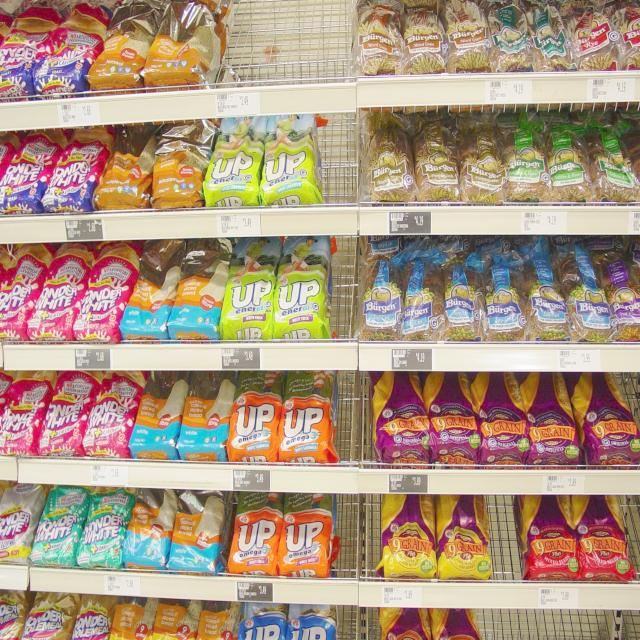empty_space: (234, 3, 339, 79), (496, 615, 612, 640), (325, 123, 359, 193), (493, 498, 519, 582), (346, 503, 376, 565), (345, 382, 367, 466), (333, 254, 357, 330)
